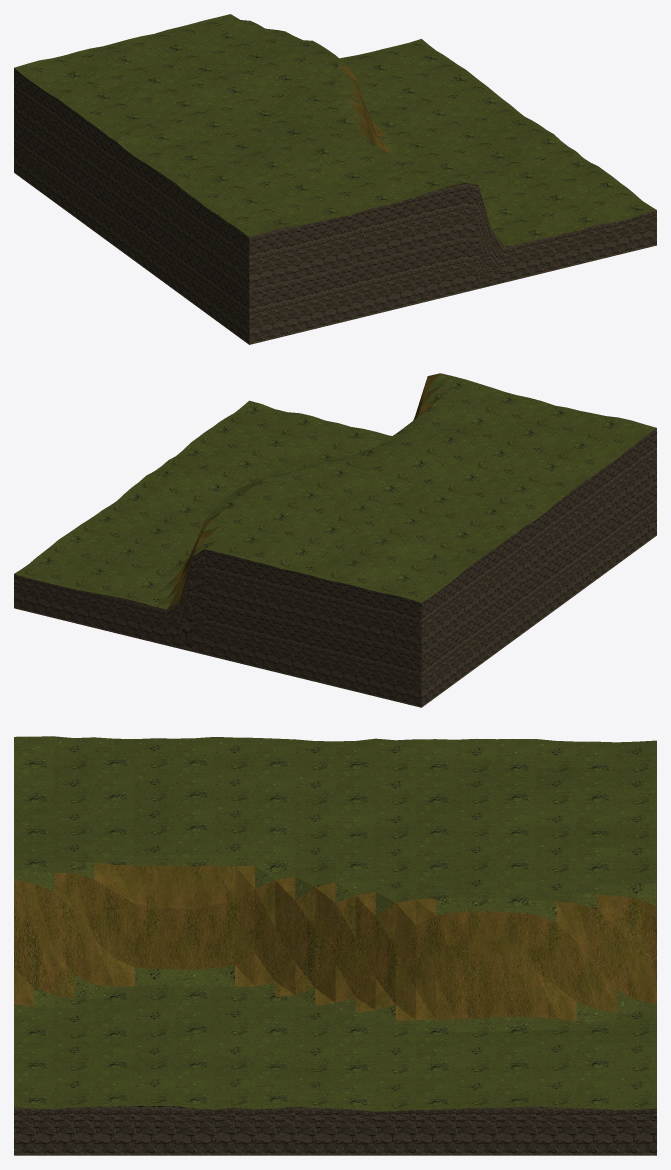
Rendered from cliff_ledge_01.glb.
3 renders of one model, top to bottom at view 1: azimuth 30°, elevation 25°; view 2: azimuth 150°, elevation 25°; view 3: azimuth 270°, elevation 25°, orthographic. The views are drawn at different scales.
Parts seen in each view (by area): view 1: cliff_ledge_01; view 2: cliff_ledge_01; view 3: cliff_ledge_01.
Boxes of the visible parts, <box> form: cliff_ledge_01: <box>14,14,656,344</box>; cliff_ledge_01: <box>14,373,656,707</box>; cliff_ledge_01: <box>14,736,656,1155</box>.
Size of the model in its own units: 16 by 4.12 by 16.
3 materials, 3 textured.
